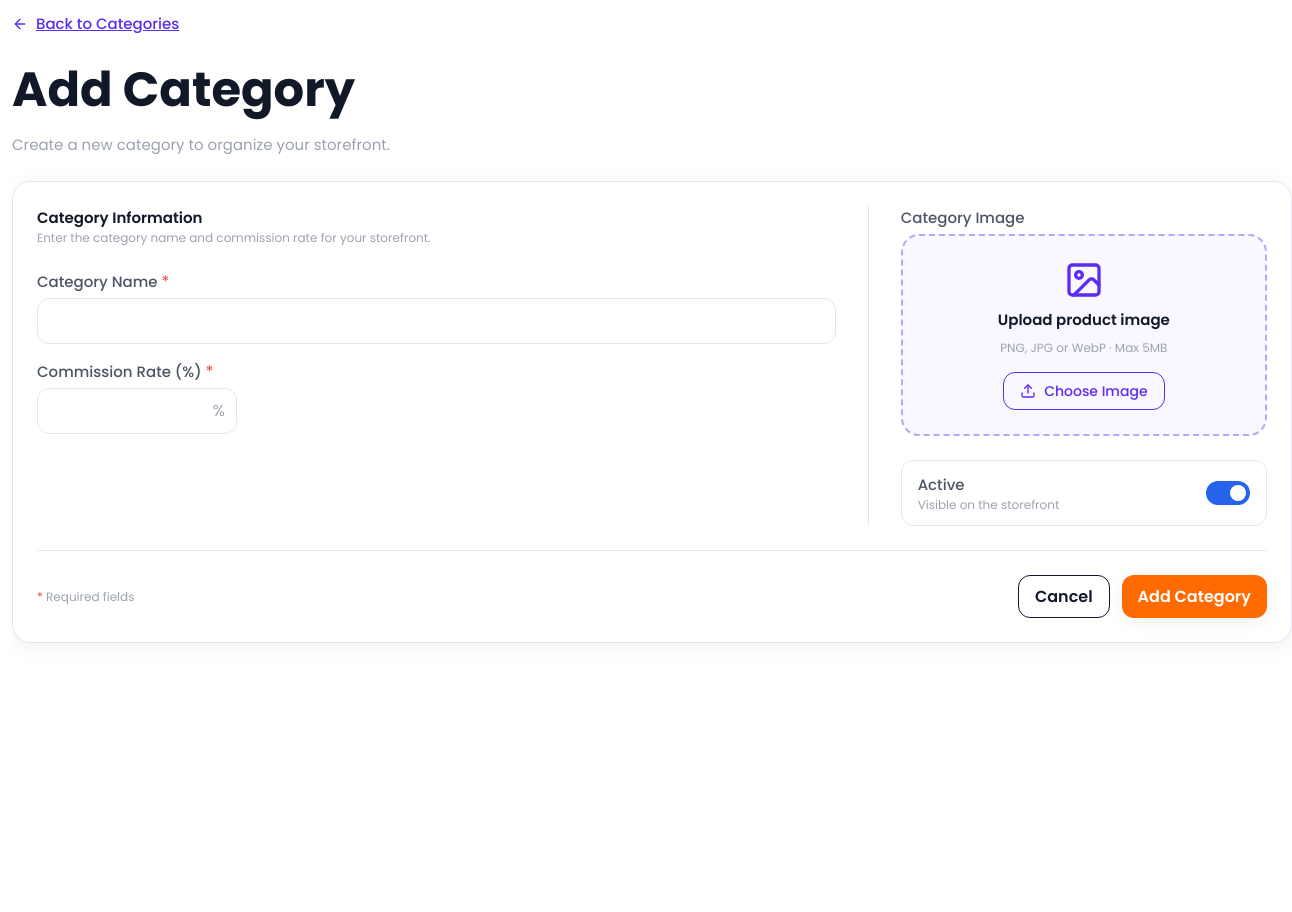
Scenario: CategoryFormPage › creates a category and navigates back to the list on success
expect the heading "Add Category" is shown: met, box [12,56,355,123]
In the field labelled "Category Name": (436,321) [37,298,836,344], type "Toys"
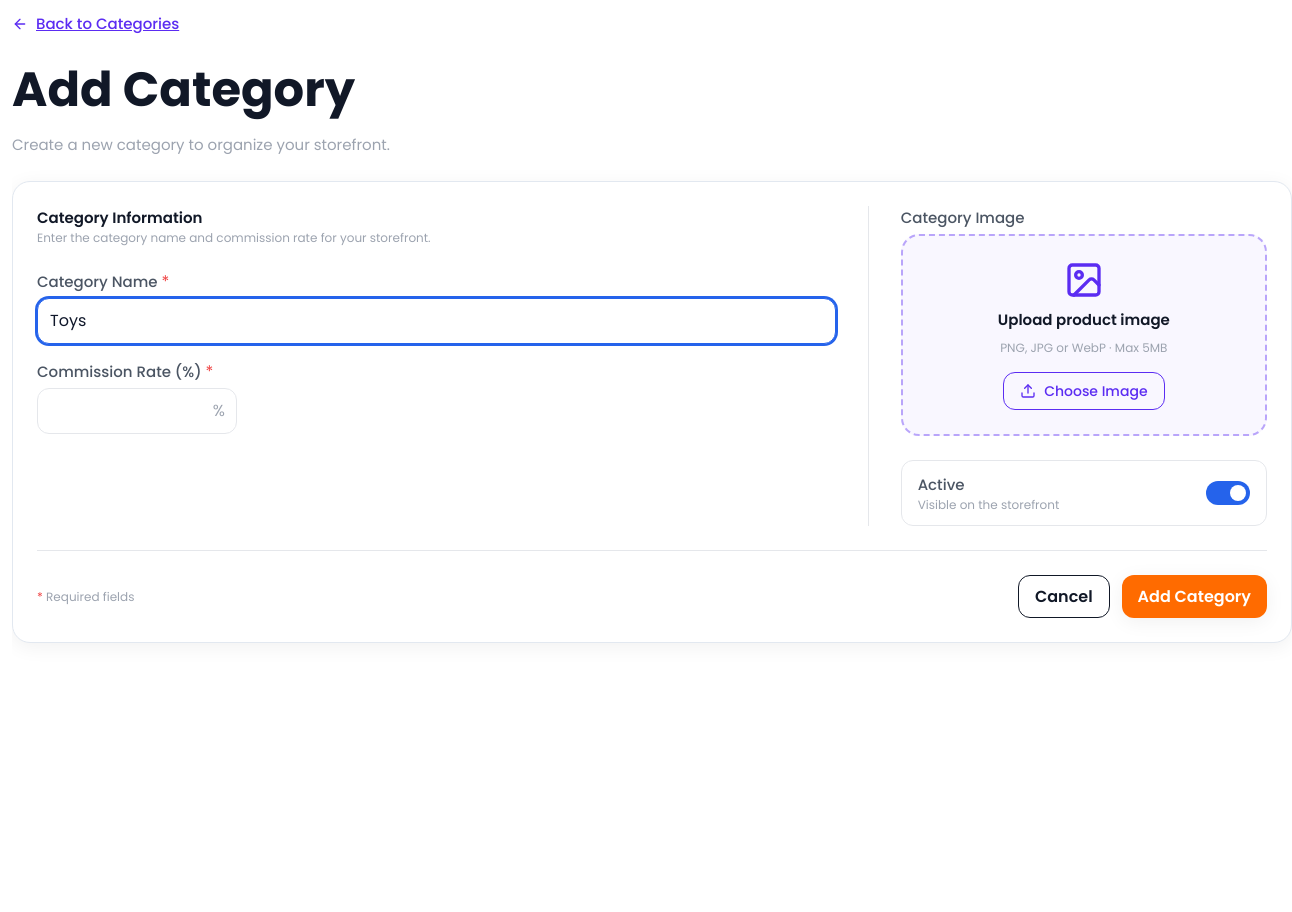
In the number field labelled "Commission Rate (%)": (137,411) [37,388,237,434], type "5"
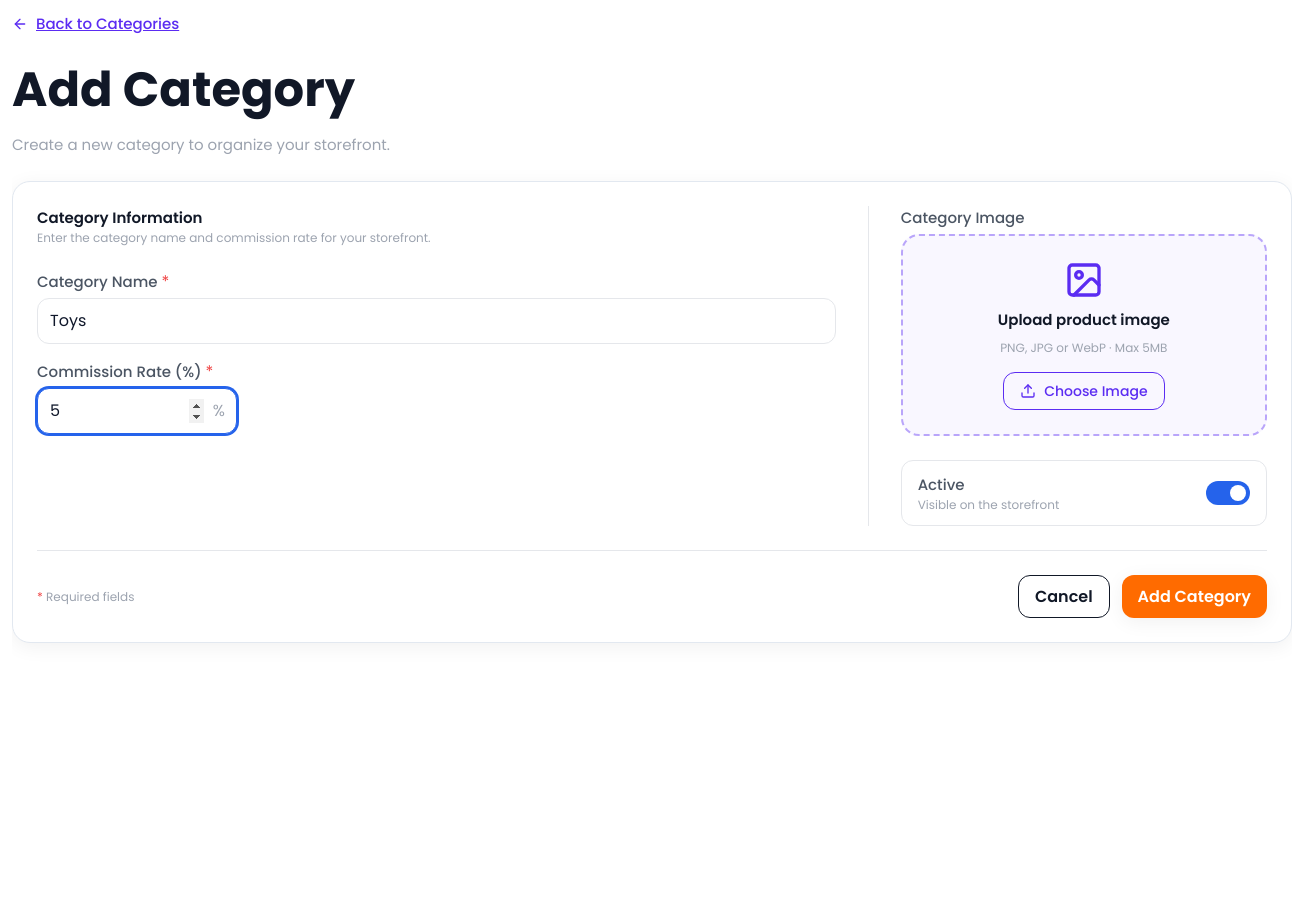
Click the button "Add Category": (1194,597) [1122,575,1267,618]
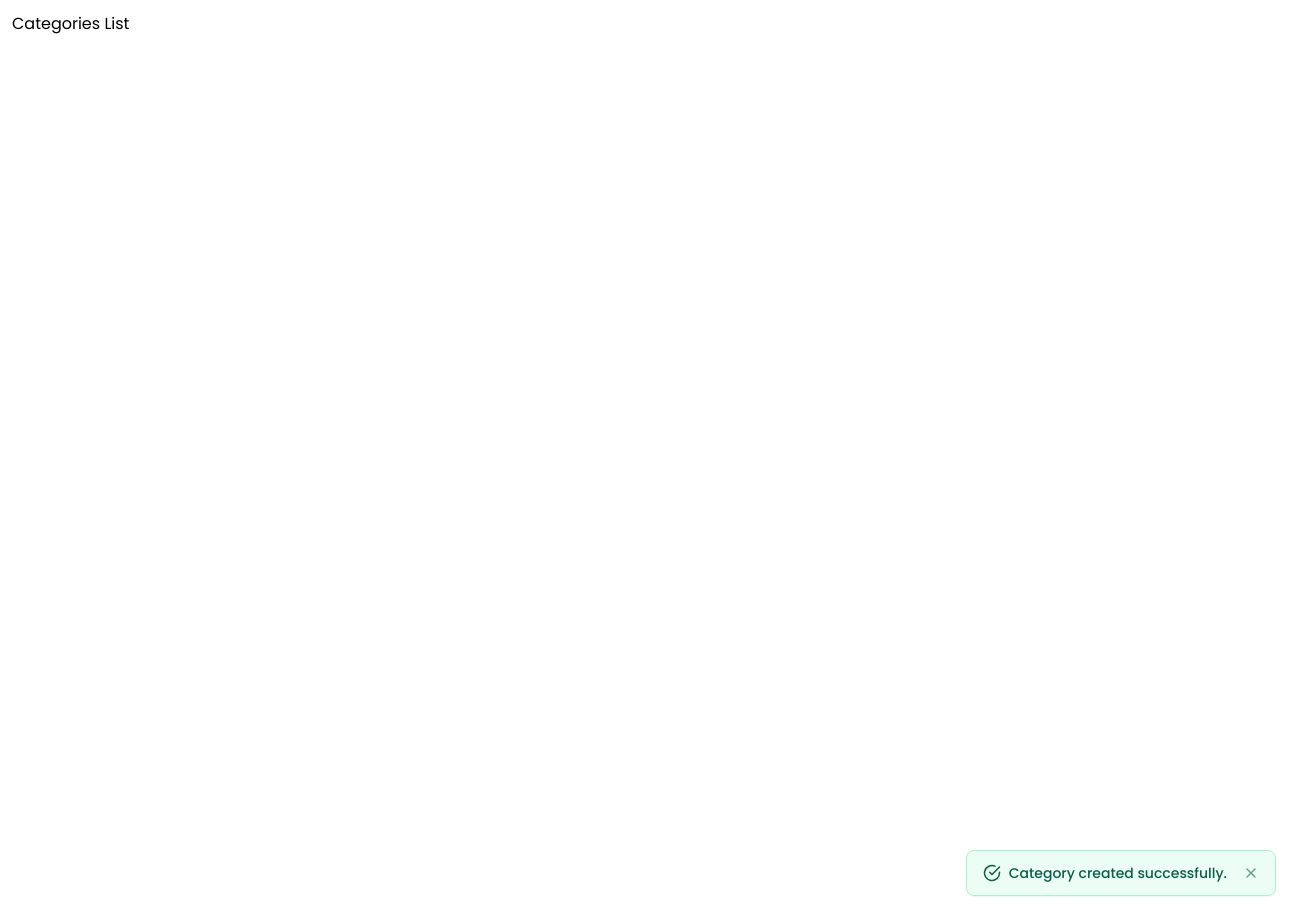
expect the text "Categories List" is shown: met, box [12,12,130,35]
